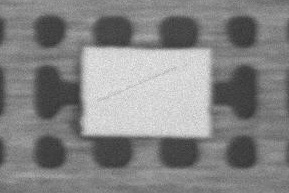DIE_CRACK: (147, 45, 264, 67)
